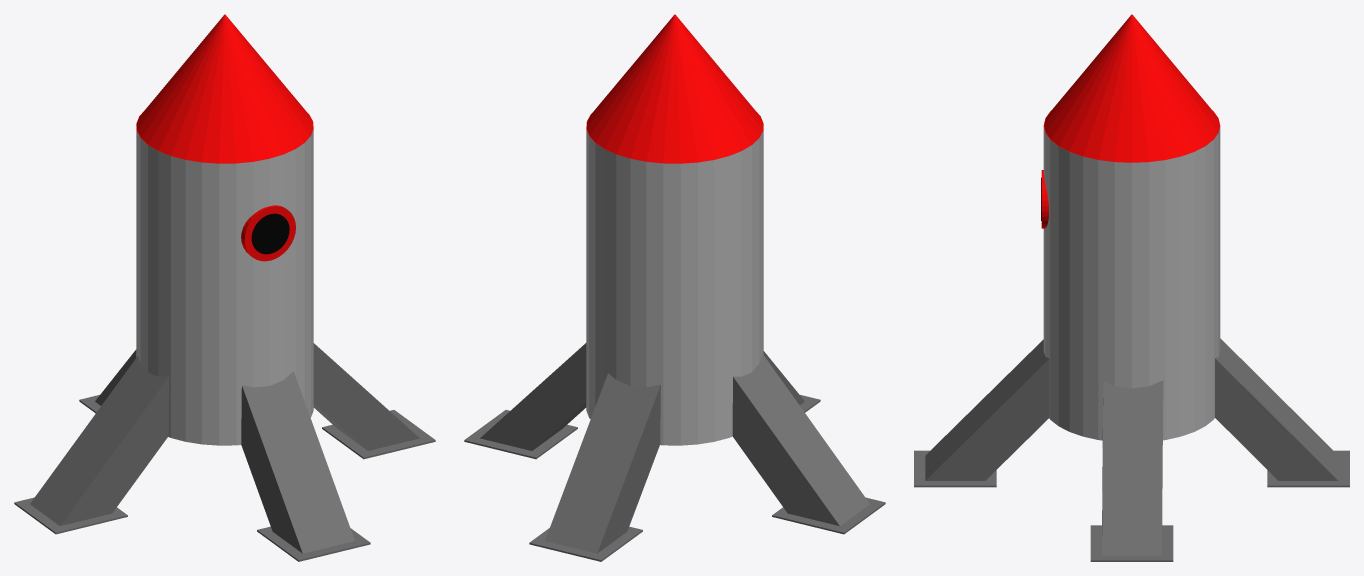
Rendered from fusee-BS7q3Nrx.glb.
3 renders of one model, left to right at view 1: azimuth 30°, elevation 25°; view 2: azimuth 150°, elevation 25°; view 3: azimuth 270°, elevation 25°, orthographic.
Visible parts, largest first — view 1: Cylinder.002; view 2: Cylinder.002; view 3: Cylinder.002.
Boxes of the visible parts, <box> form: Cylinder.002: <box>14,14,435,561</box>; Cylinder.002: <box>464,14,885,561</box>; Cylinder.002: <box>914,14,1349,561</box>.
Size of the model in its own units: 4.94 by 5.7 by 4.94.
